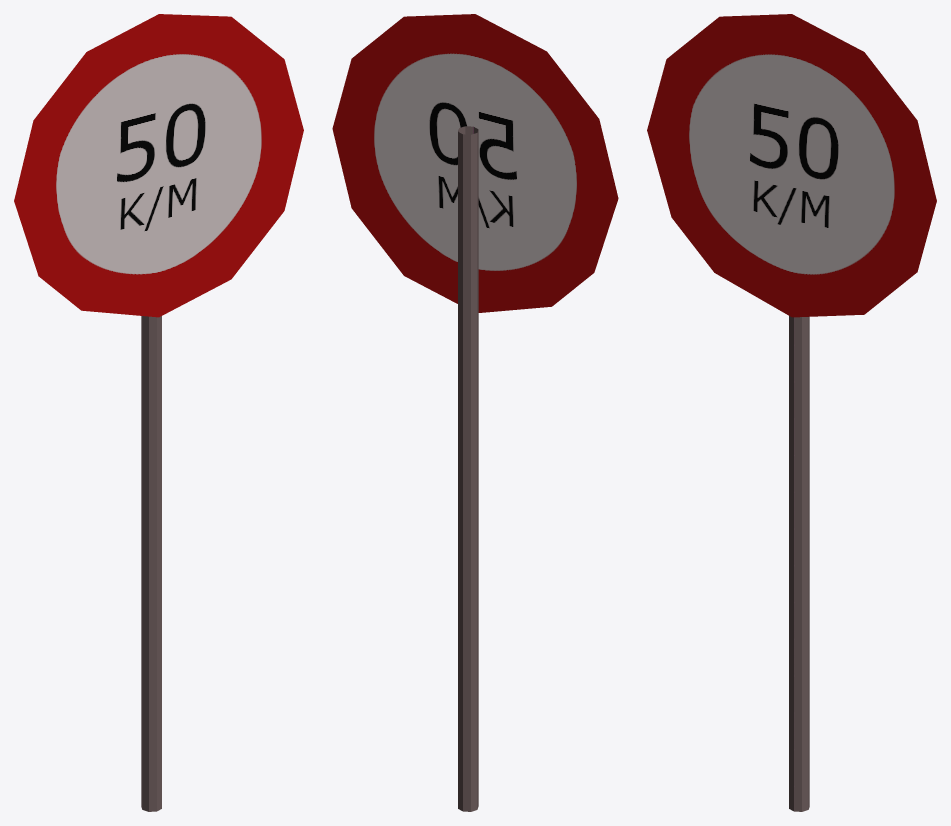
Rendered from InvertedSpeedLimit.fbx.
3 renders of one model, left to right at view 1: azimuth 30°, elevation 25°; view 2: azimuth 150°, elevation 25°; view 3: azimuth 330°, elevation 25°, orthographic.
Visible parts, largest first — view 1: SpeedLimit; view 2: SpeedLimit; view 3: SpeedLimit.
Boxes of the visible parts, x1,y1,x2,y2 form: SpeedLimit: (14, 14, 303, 811); SpeedLimit: (332, 14, 618, 811); SpeedLimit: (647, 14, 936, 811).
Size of the model in its own units: 88.43 by 233 by 6.71.
